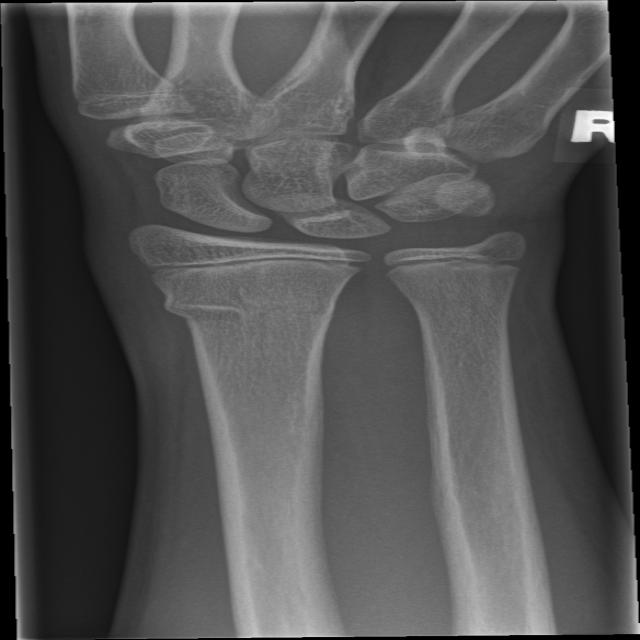radius fracture: (130, 266, 335, 450)
